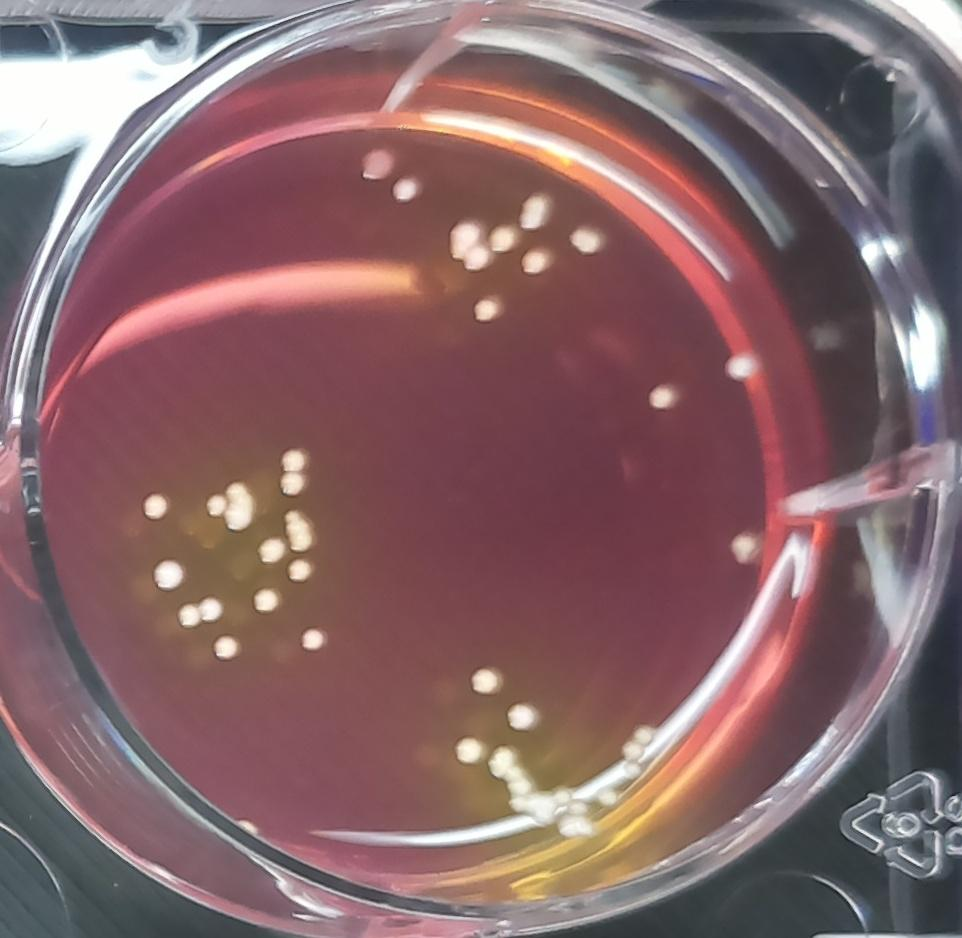staphylo-: (487, 743, 568, 829), (207, 477, 254, 534), (178, 593, 225, 628), (283, 509, 316, 558), (467, 295, 506, 330), (505, 700, 541, 737), (521, 190, 551, 232), (207, 633, 242, 667), (450, 732, 483, 768), (469, 665, 502, 700), (728, 528, 758, 565), (136, 492, 170, 524), (519, 248, 553, 278), (297, 624, 328, 654), (279, 470, 307, 503), (285, 555, 315, 585), (489, 224, 519, 254), (279, 444, 308, 475), (257, 538, 286, 569), (643, 380, 675, 408), (250, 585, 279, 614), (391, 178, 420, 205), (630, 723, 656, 750), (594, 784, 619, 807), (621, 739, 644, 762), (623, 760, 646, 780)
